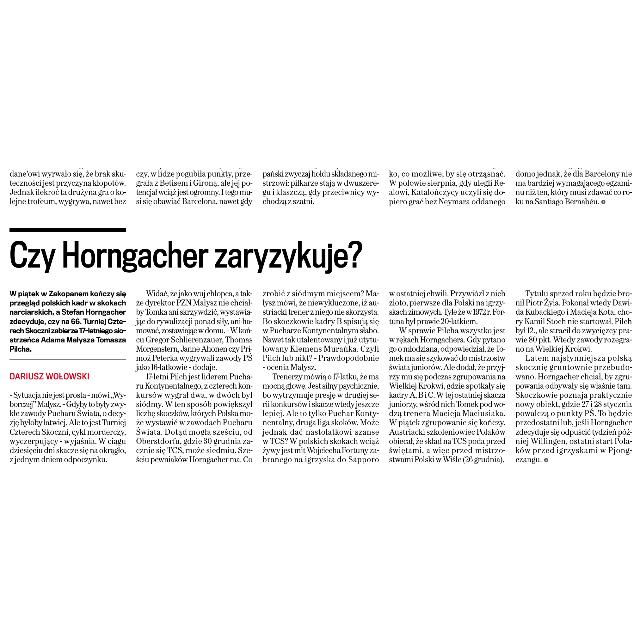author: (8, 368, 94, 384)
body: (386, 286, 510, 466), (513, 286, 637, 466), (134, 287, 256, 469), (260, 287, 380, 467), (6, 388, 130, 467)
lead: (6, 286, 130, 356)
title: (9, 234, 374, 280)
